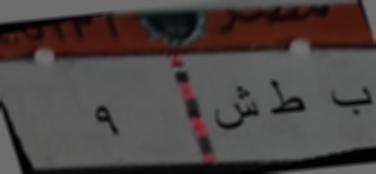9: (90, 99, 130, 144)
Taa: (270, 74, 306, 124)
baa: (330, 80, 376, 121)
sheen: (216, 79, 258, 138)
